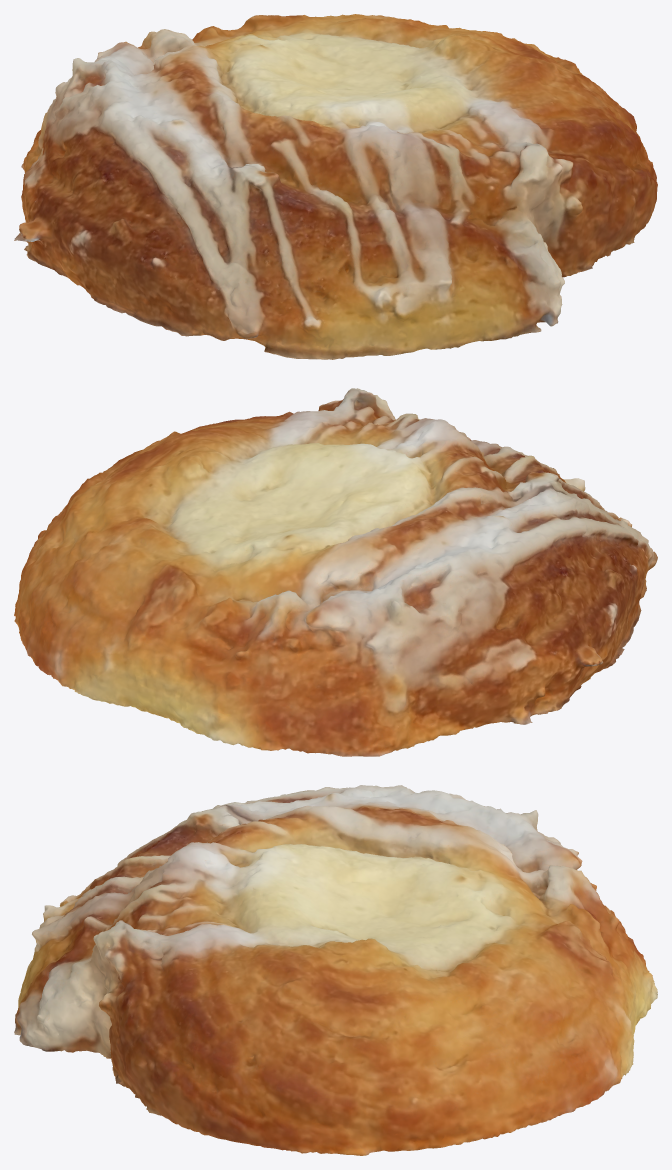
Rendered from Cheese_Danish.glb.
The picture shows the model from 3 angles, top to bottom: view 1: azimuth 30°, elevation 25°; view 2: azimuth 150°, elevation 25°; view 3: azimuth 270°, elevation 25°; orthographic projection. The views are drawn at different scales.
Visible parts, largest first — view 1: model; view 2: model; view 3: model.
Boxes of the visible parts, x1,y1,x2,y2 form: model: (14,14,657,359); model: (14,388,657,756); model: (14,785,657,1155).
Bounding box in the file's own units: 0.0993 × 0.0253 × 0.0957.
Materials: 1 (1 with a texture image).
